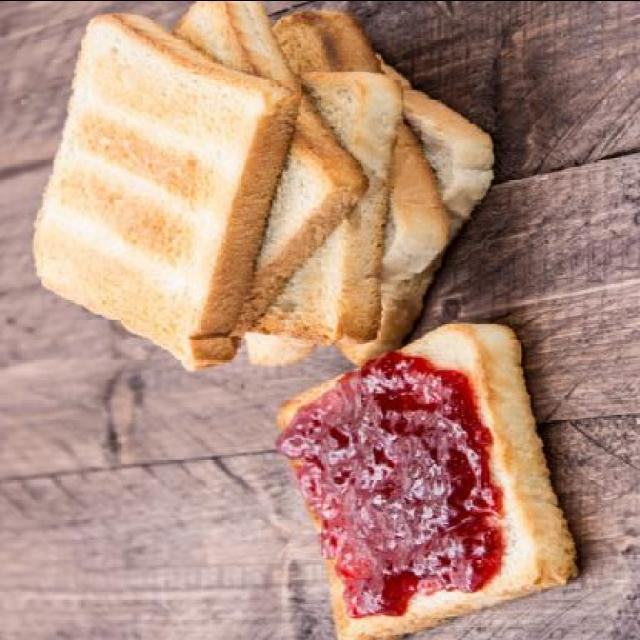Spread: (276, 348, 508, 620)
